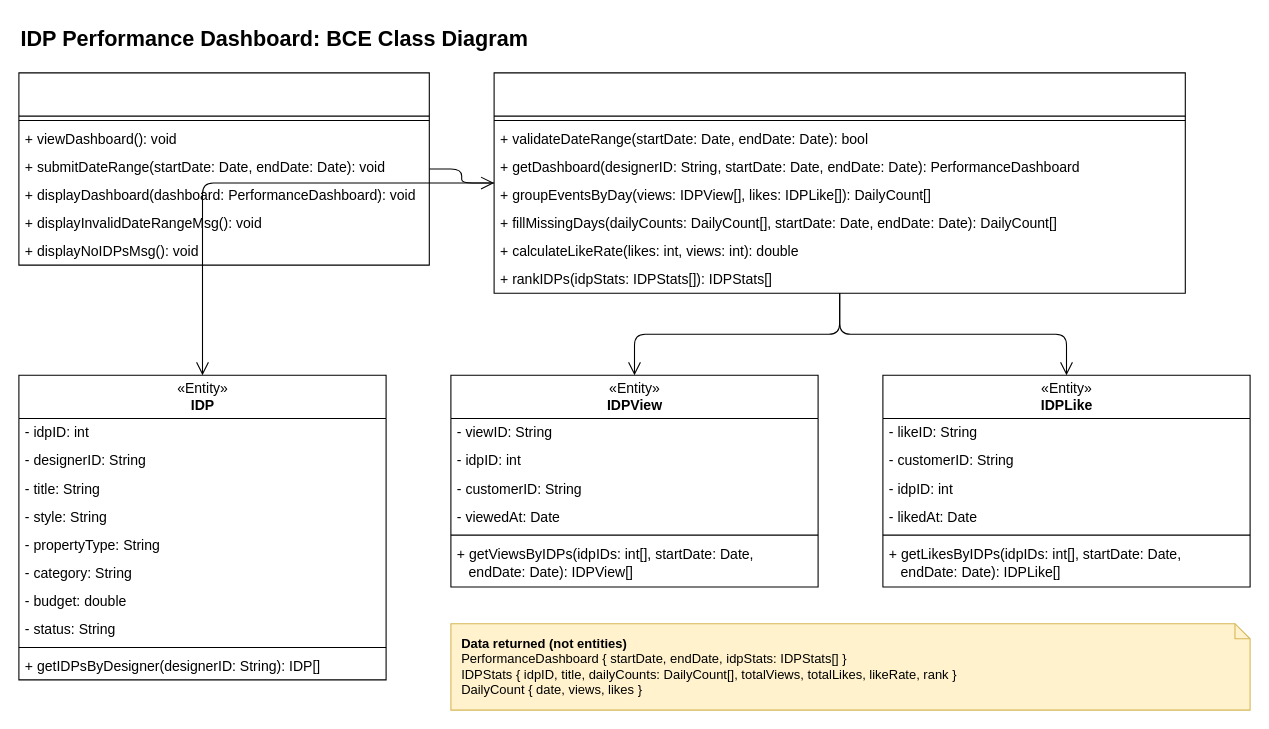
Some shapes in this 1269 by 729 pixel diagram are drawn without their labels. The box of each missing label's shape, as (x1, y1, x2, y2) in pixels:
«Boundary» IDPPerformanceDashboardPg: (18, 72, 429, 265)
«Control» IDPPerformanceDashboardController: (493, 72, 1185, 293)
